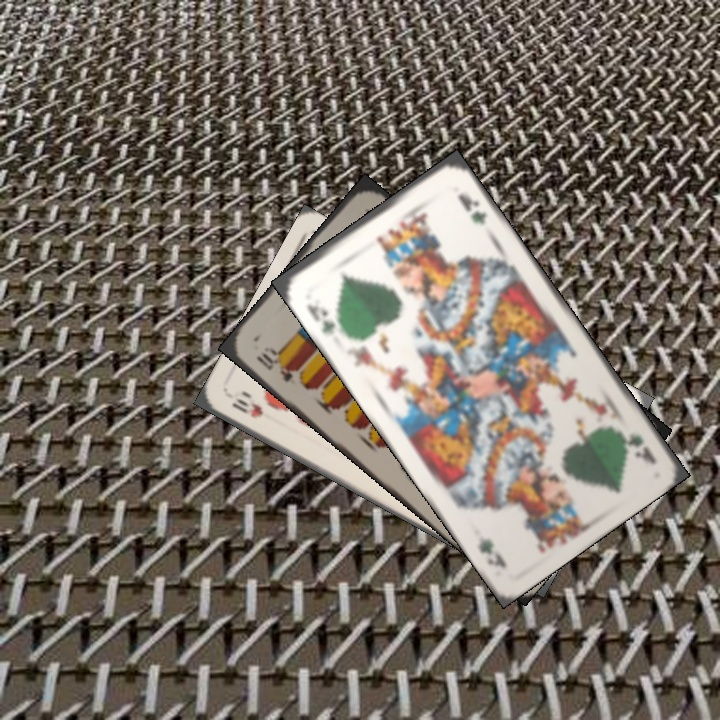E10: (252, 344, 296, 385)
GK: (614, 425, 659, 467), (302, 300, 338, 338)
H10: (227, 394, 266, 421)
